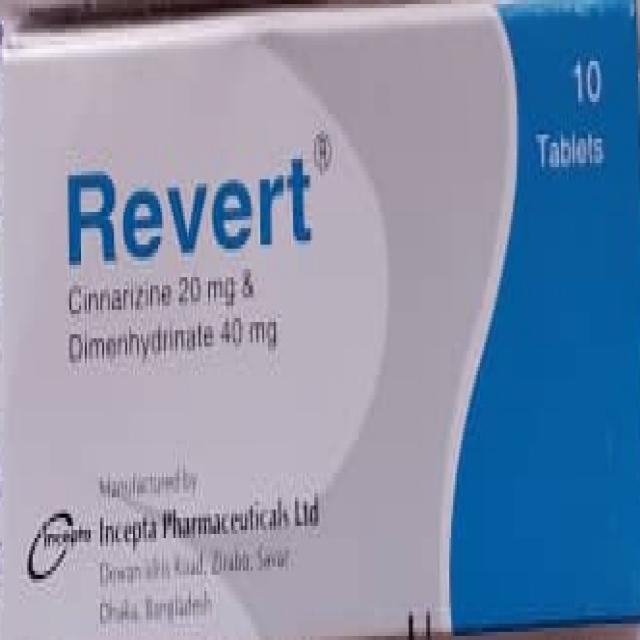drug-name: (52, 140, 321, 270)
